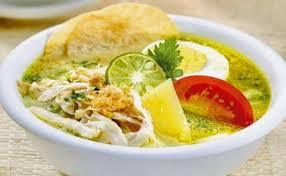soto: (10, 1, 278, 156)
